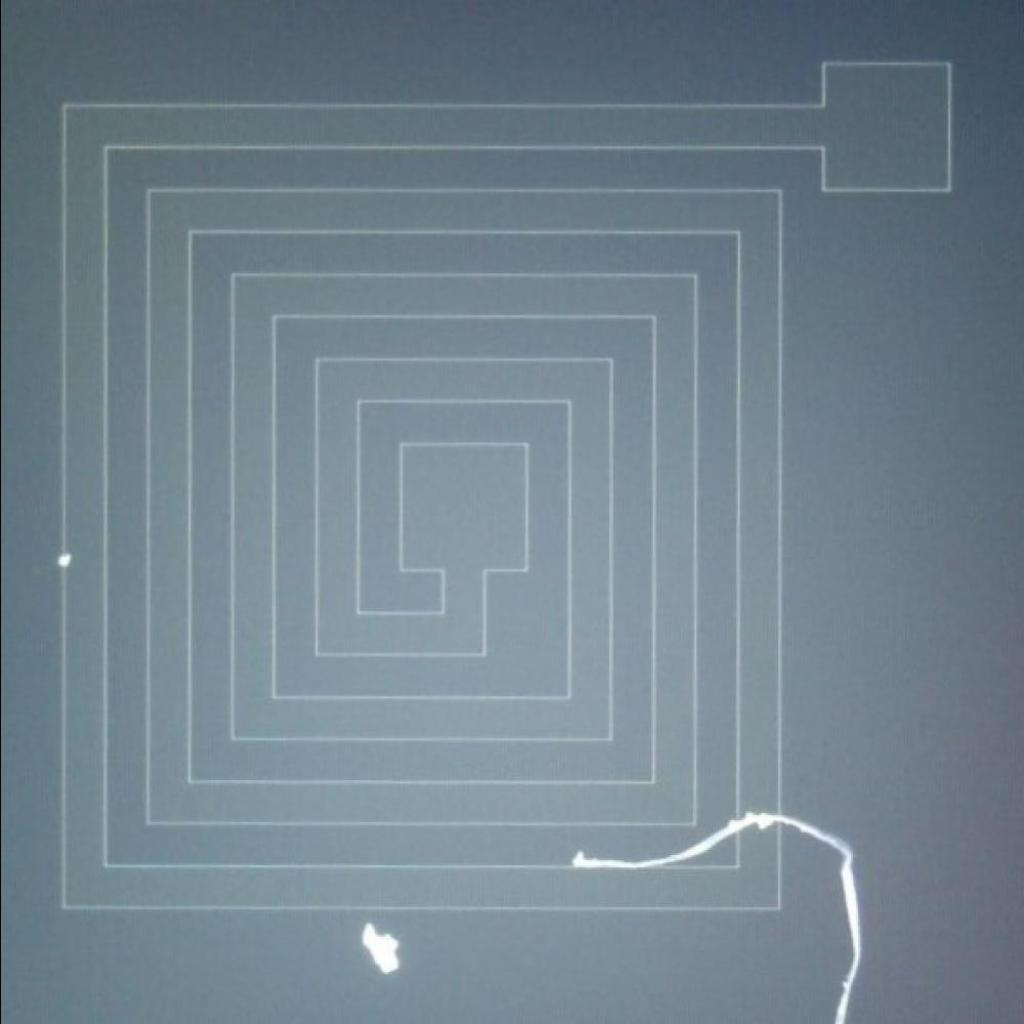line: (572, 808, 866, 1023)
spot: (353, 918, 408, 985), (48, 544, 84, 582)
